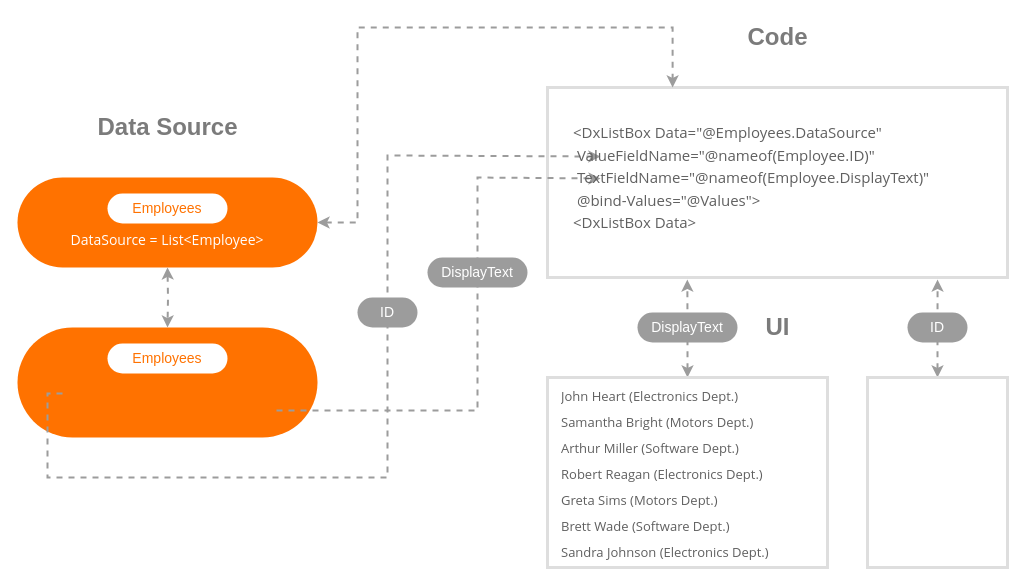
This 1026x586 diagram has some shape labels left out. Each missing label, with the box of its shape:
Selected Values: 0 1: (866, 376, 1008, 568)
• ID, FirstName, LastName, Department, Display Text. •: (17, 327, 317, 437)
